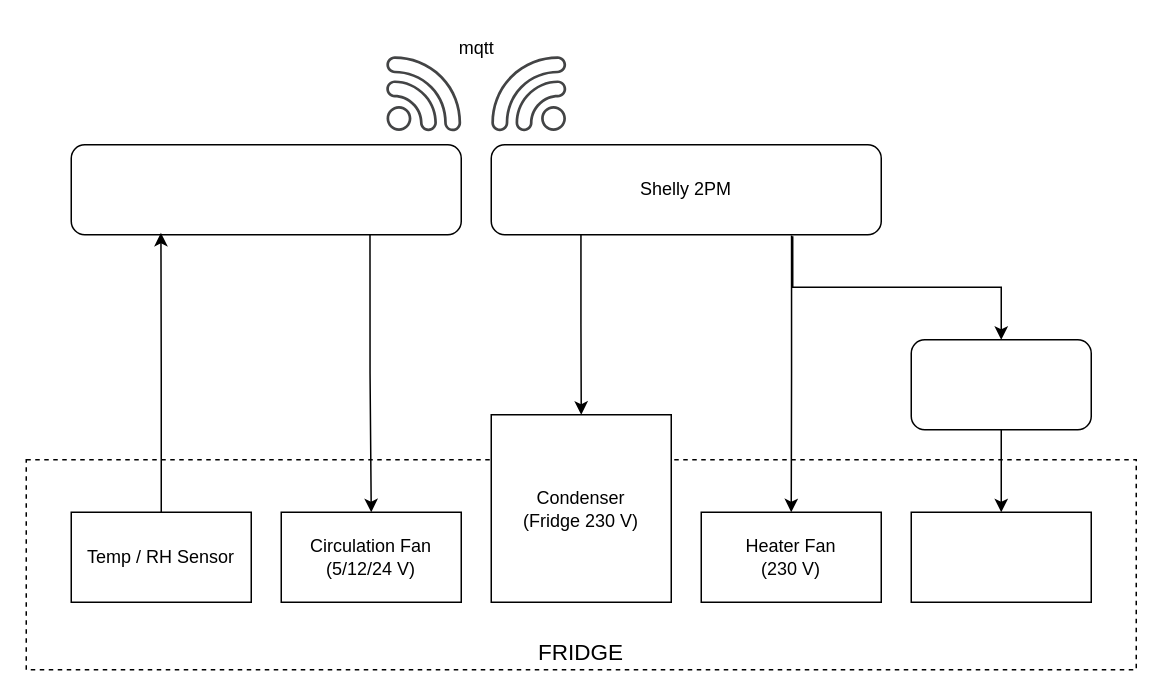
Some shapes in this 1163 by 696 pixel diagram are drawn without their labels. The shapes that lost their labels are listed below. From the top down, each one's box as (x1, y1, x2, y2) in pixels, then its label:
(70, 143, 461, 235): esp32
(910, 338, 1091, 430): Shelly Dimmer
(910, 511, 1091, 602): Heater (230 V)
